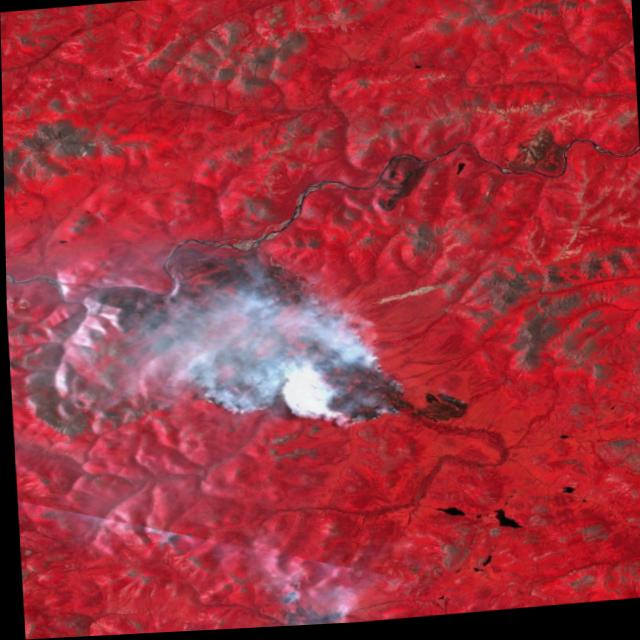fire: (194, 314, 418, 447)
